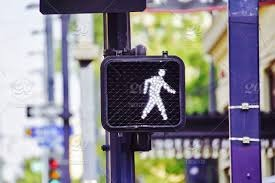pedestrian_walk: (102, 58, 186, 128)
